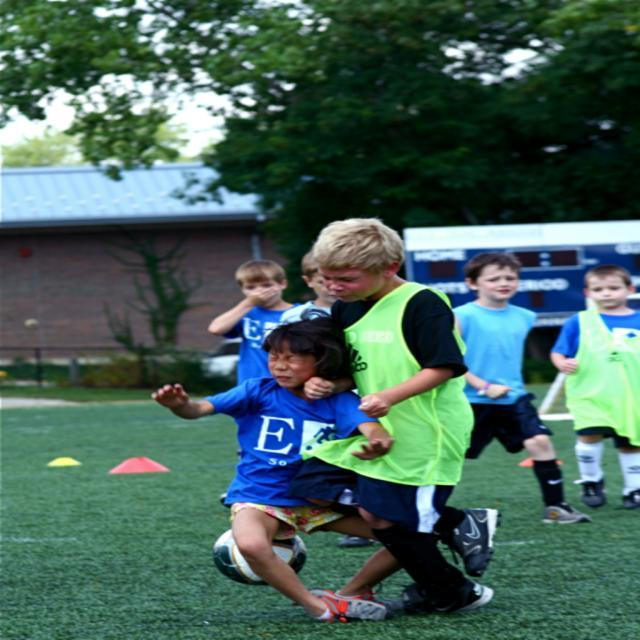football: (214, 524, 308, 597)
